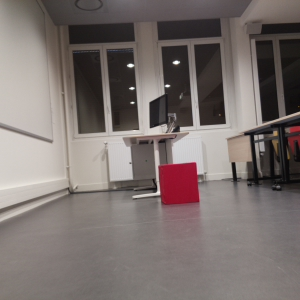medium: (157, 160, 203, 205)
